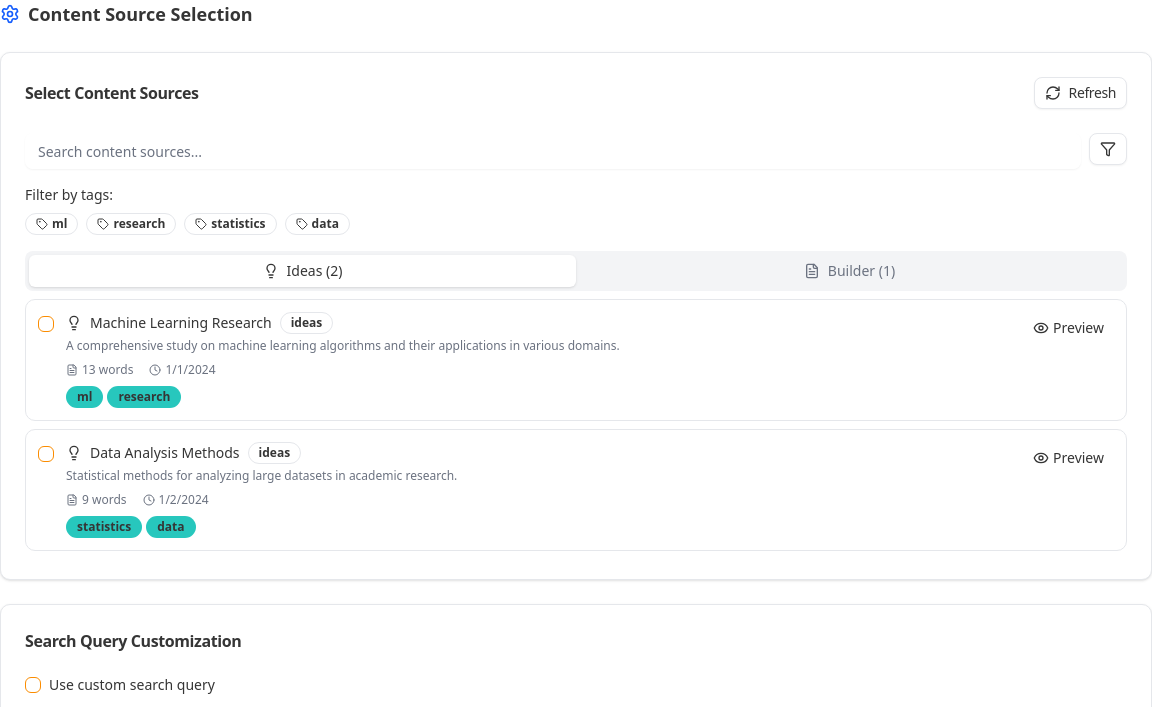
Test: ContentSourceSelector › shows preview modal when preview button is clicked
This screenshot has width=1152, height=707.
Check: the heading "Machine Learning Research" is shown, box [90,313,272,333]
# Click preview button
Step 1. Click the button "Preview" in the row of "Machine Learning Research" → x=1069, y=328, box [1023,312,1114,344]
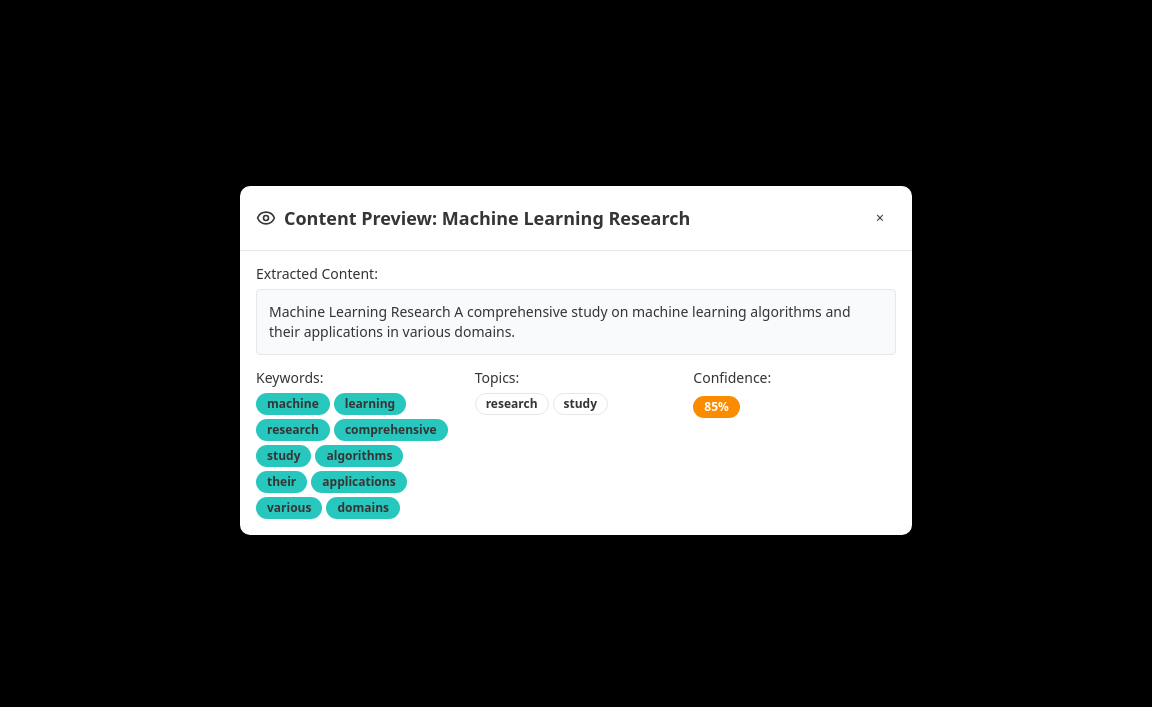
Check: the heading "Content Preview: Machine Learning Research" is shown, box [256,204,690,232]
